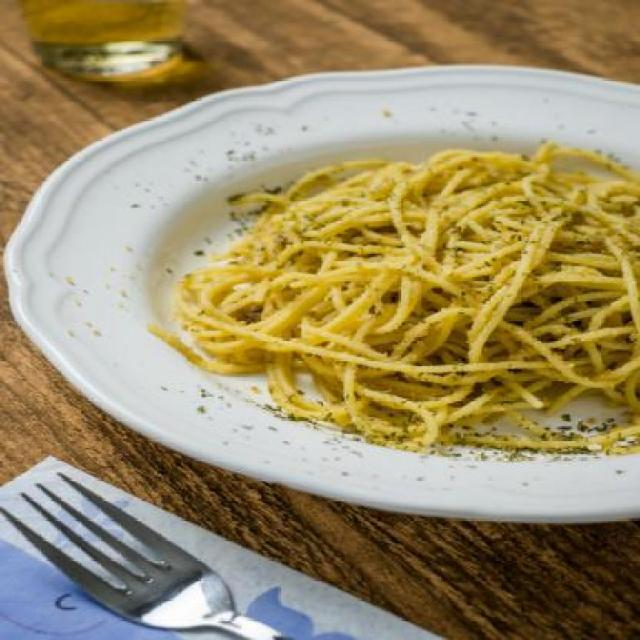Oil pasta: (83, 64, 640, 524)
